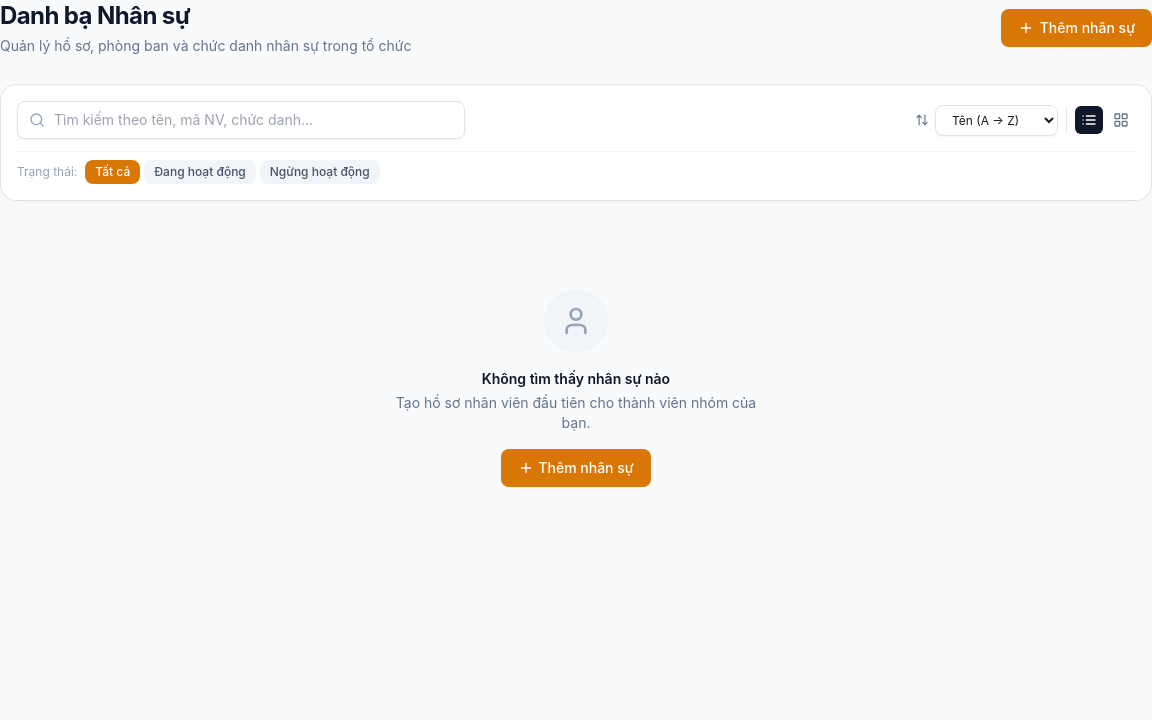
Test case: PeoplePage › validates E.164 phone format when saving employee
Click the button "Thêm nhân sự" in the row of "Danh bạ Nhân sự" at (1076, 28), box [1001,9,1151,47]
(page scrolled)
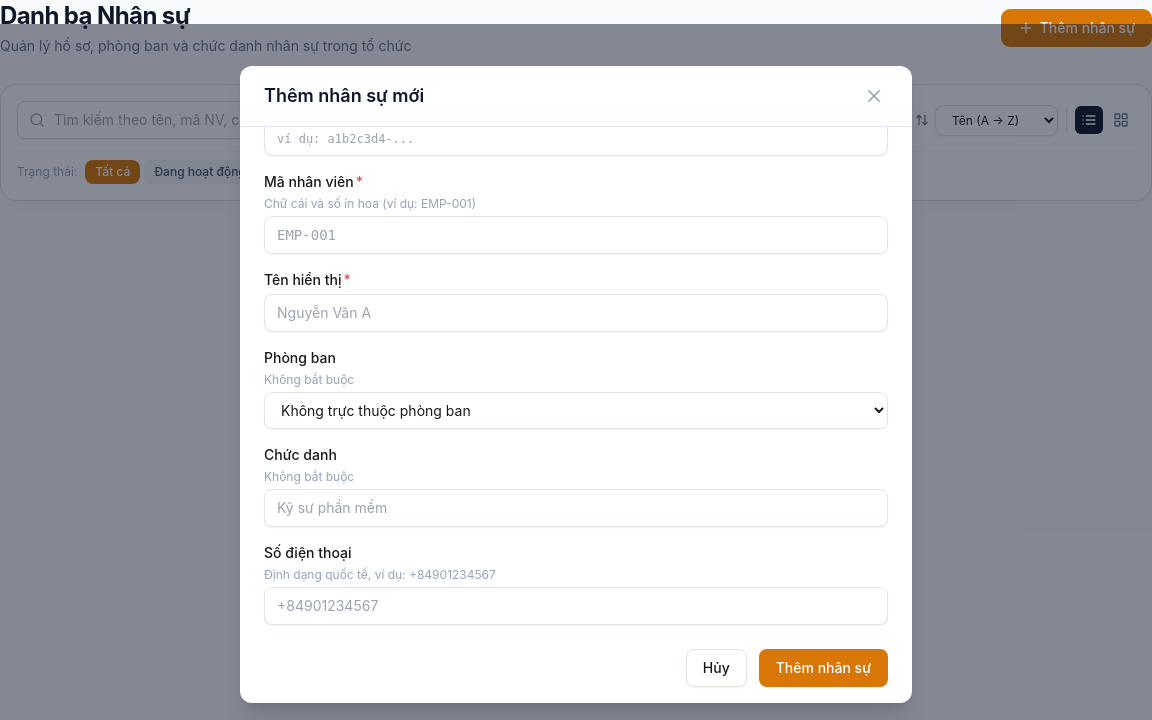
Check: the heading "Thêm nhân sự mới" is shown, box [264,82,424,110]
Type "0901234567" into the field with placeholder "+84901234567" at (576, 606), box [264,586,888,624]
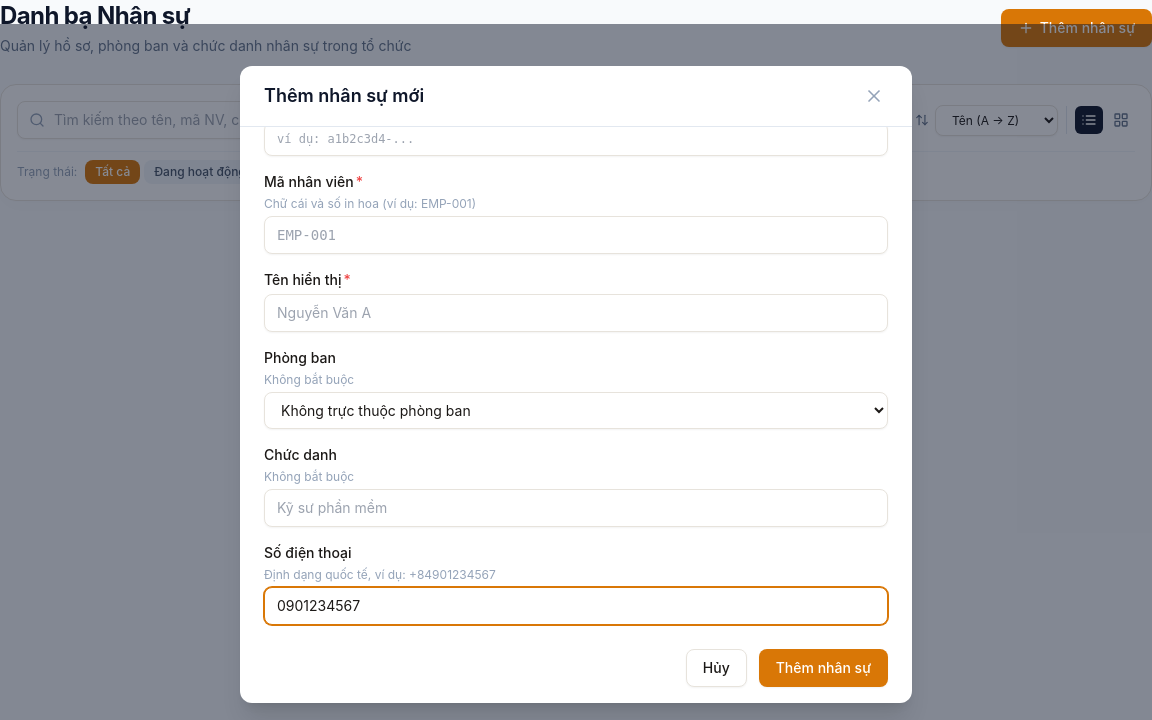
Click the button "Thêm nhân sự" at (823, 668), box [759,648,888,686]
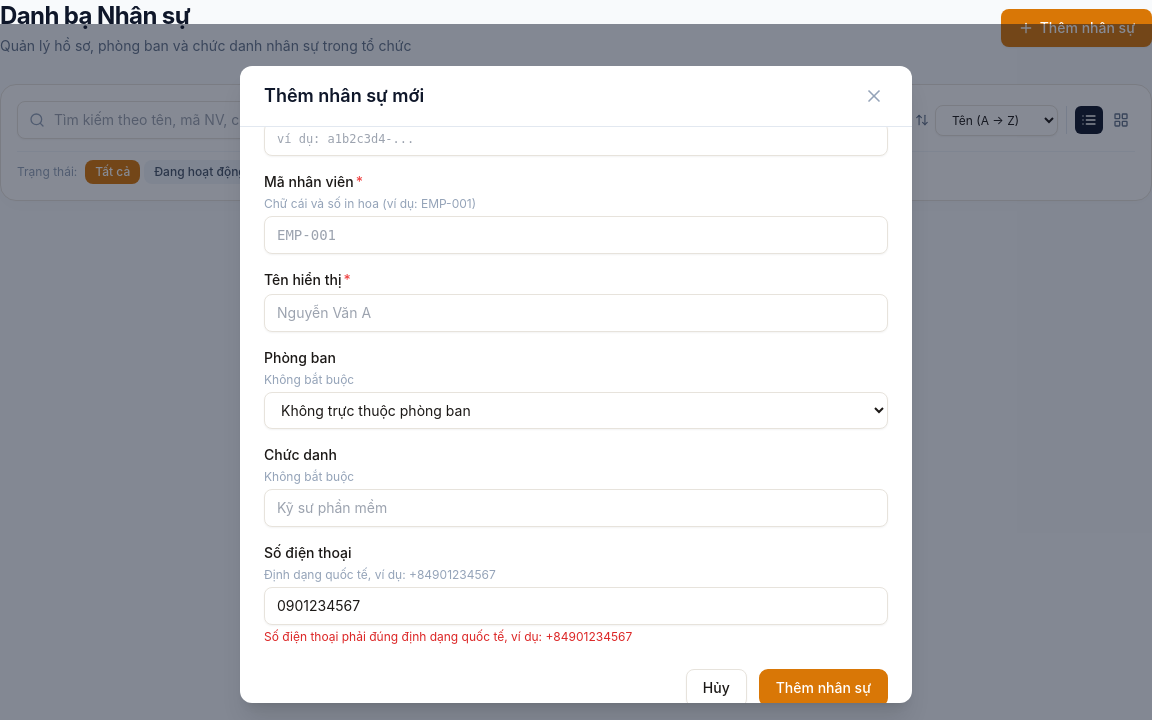
Check: the text "Số điện thoại phải đúng định dạng quốc tế, ví dụ: +84901234567" is shown, box [264,628,632,644]
